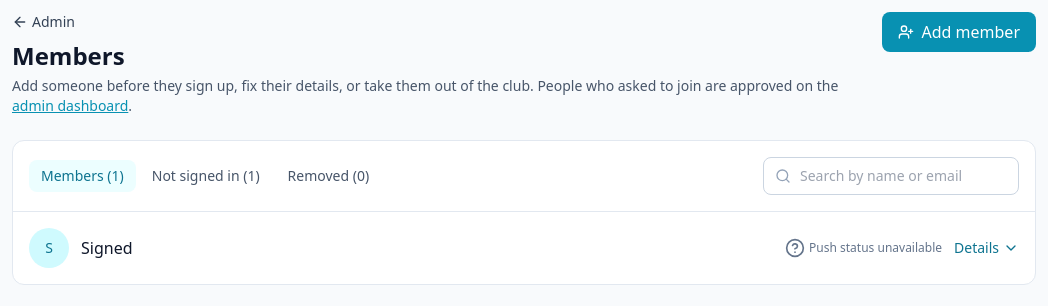
Scenario: the roll › separates signed-in members from invites who have not arrived yet
Expected: the text "Signed" is shown, [81,237,132,259]
Click the tab "Not signed in (1)": (206, 176) [140,160,272,192]
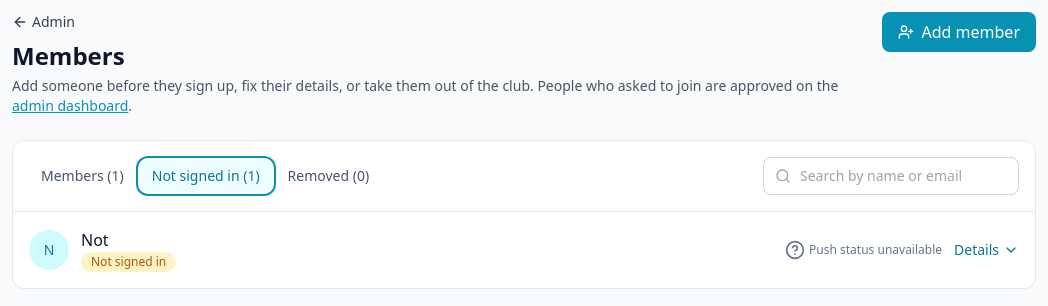
Expected: the text "Not" is shown, [81,229,109,251]
Expected: the text "Not signed in" is shown, [81,252,176,272]
